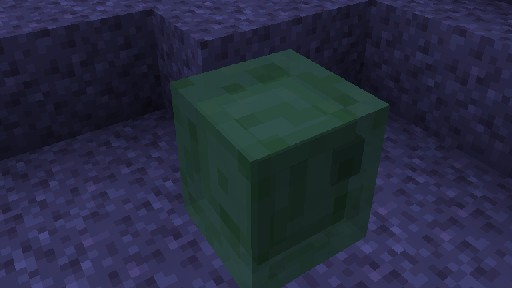slime: (169, 48, 390, 288)
